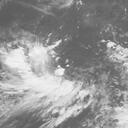cyclone: (2, 41, 84, 122)
